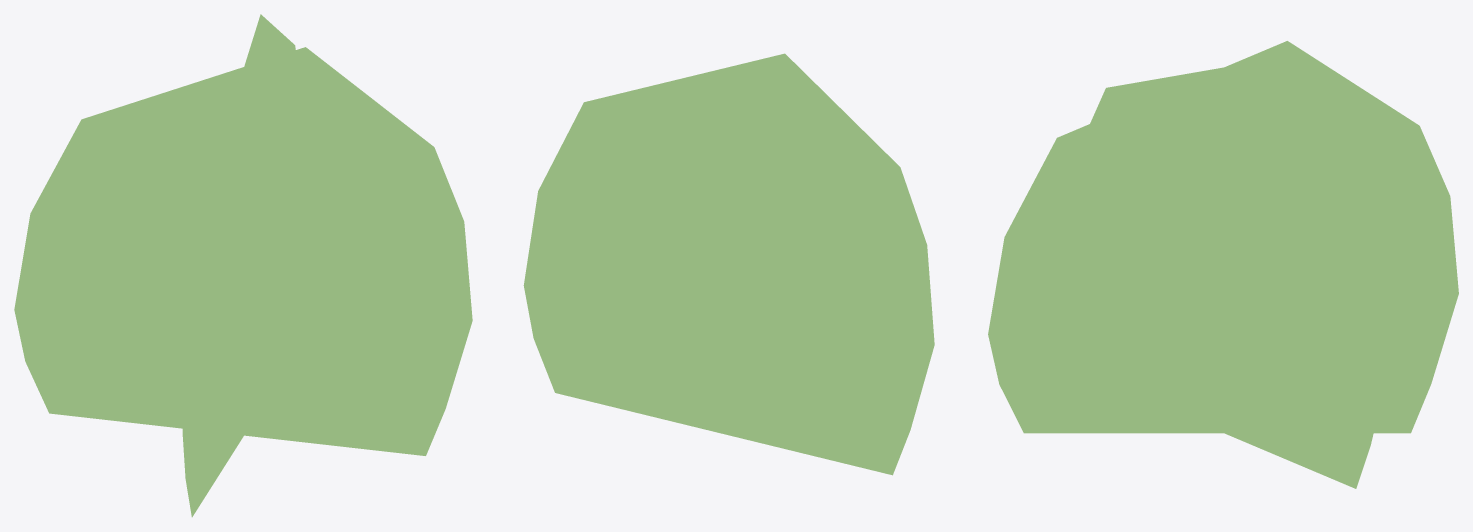
Rendered from SM_Grass_B.glb.
3 views of the same model, side by side, from view 1: azimuth 30°, elevation 25°; view 2: azimuth 150°, elevation 25°; view 3: azimuth 270°, elevation 25° (orthographic).
Visible parts, largest first — view 1: SM_Grass_B; view 2: SM_Grass_B; view 3: SM_Grass_B.
Part boxes in pixels (x1,y1,x2,y2): SM_Grass_B: (14,14,472,517); SM_Grass_B: (523,53,934,475); SM_Grass_B: (988,41,1458,488).
Size of the model in its own units: 0.3128 by 0.2877 by 0.3128.
